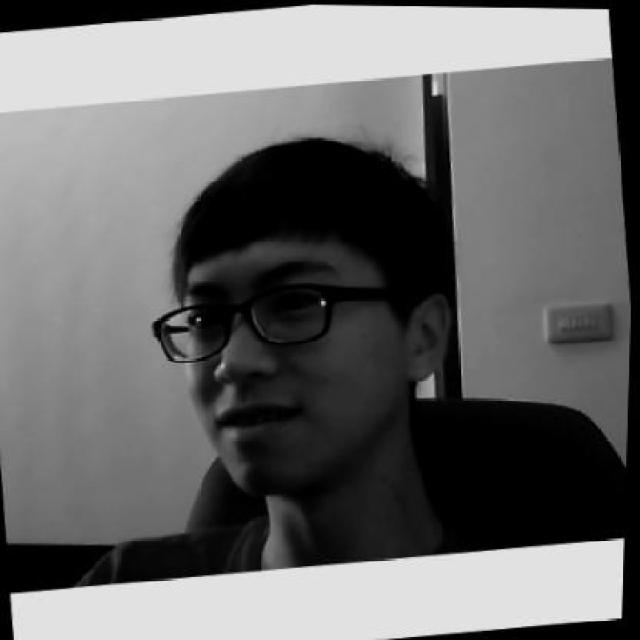attentif: (132, 120, 474, 508)
